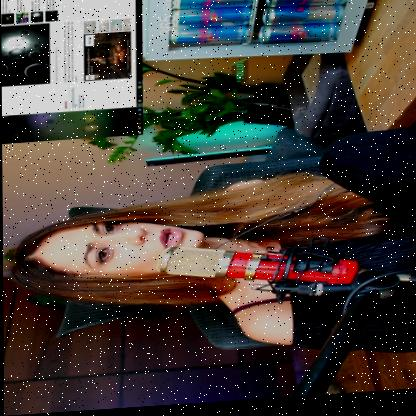streamer: (7, 134, 416, 381)
